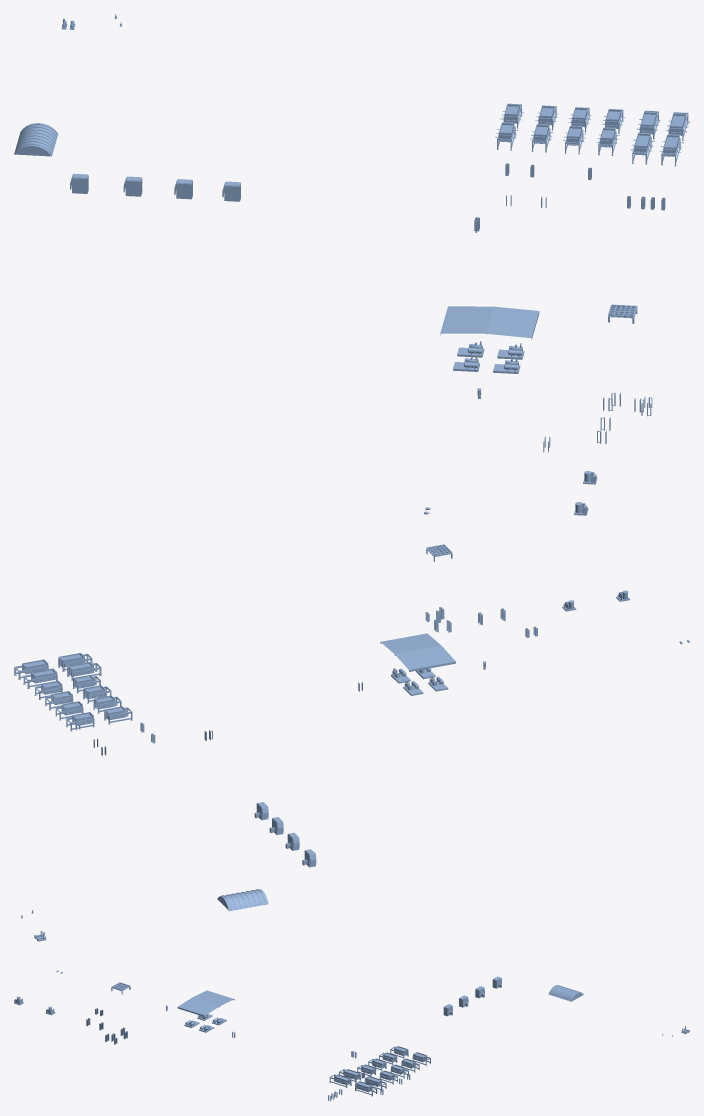
File: NoLod_15.glb
3 renders of one model, top to bottom at view 1: azimuth 30°, elevation 25°; view 2: azimuth 150°, elevation 25°; view 3: azimuth 270°, elevation 25°, orthographic. The views are drawn at different scales.
Parts seen in each view (by area): view 1: rtc; view 2: rtc; view 3: rtc.
Part boxes in pixels (x1,y1,x2,y2): rtc: (14, 14, 689, 515); rtc: (14, 544, 689, 941); rtc: (14, 970, 689, 1101).
Bounding box in the file's own units: 114 × 19.58 × 223.
